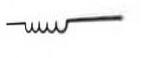inductor: (11, 13, 73, 41)
